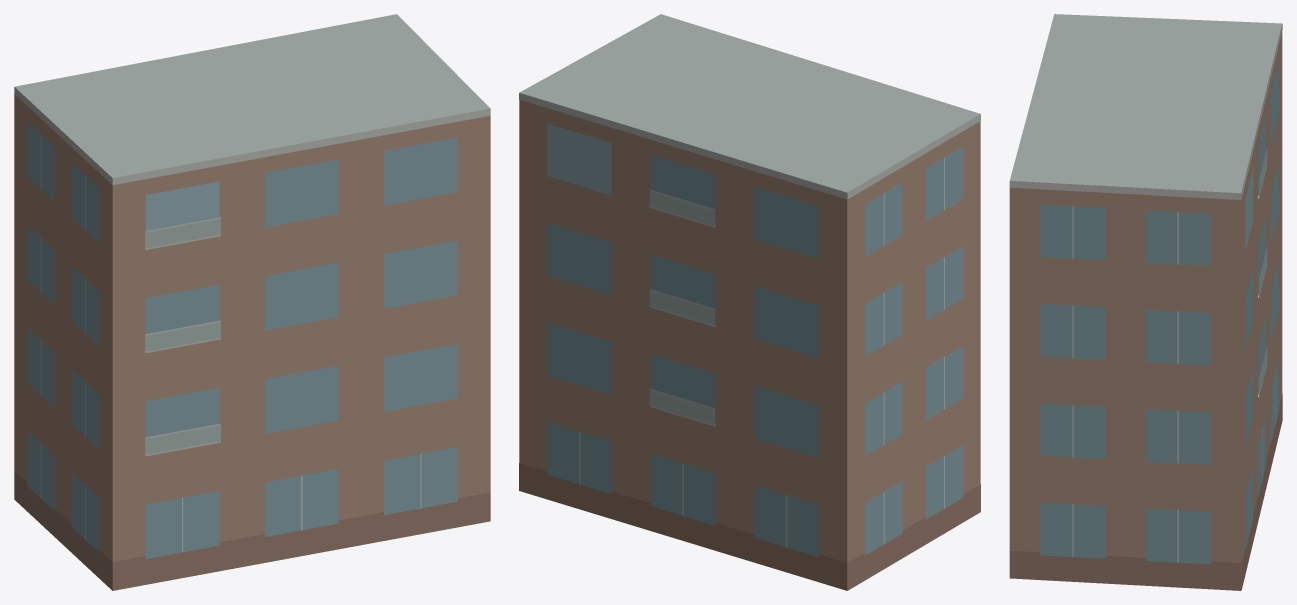
File: survey-upis-32813930.glb
3 views of the same model, side by side, from view 1: azimuth 30°, elevation 25°; view 2: azimuth 150°, elevation 25°; view 3: azimuth 270°, elevation 25° (orthographic). The views are drawn at different scales.
Parts seen in each view (by area): view 1: survey-upis-32813930.tmp; view 2: survey-upis-32813930.tmp; view 3: survey-upis-32813930.tmp.
Boxes of the visible parts, x1,y1,x2,y2 form: survey-upis-32813930.tmp: (14,14,490,590); survey-upis-32813930.tmp: (519,14,980,590); survey-upis-32813930.tmp: (1009,14,1282,590).
Size of the model in its own units: 13.75 by 14.2 by 8.84.
